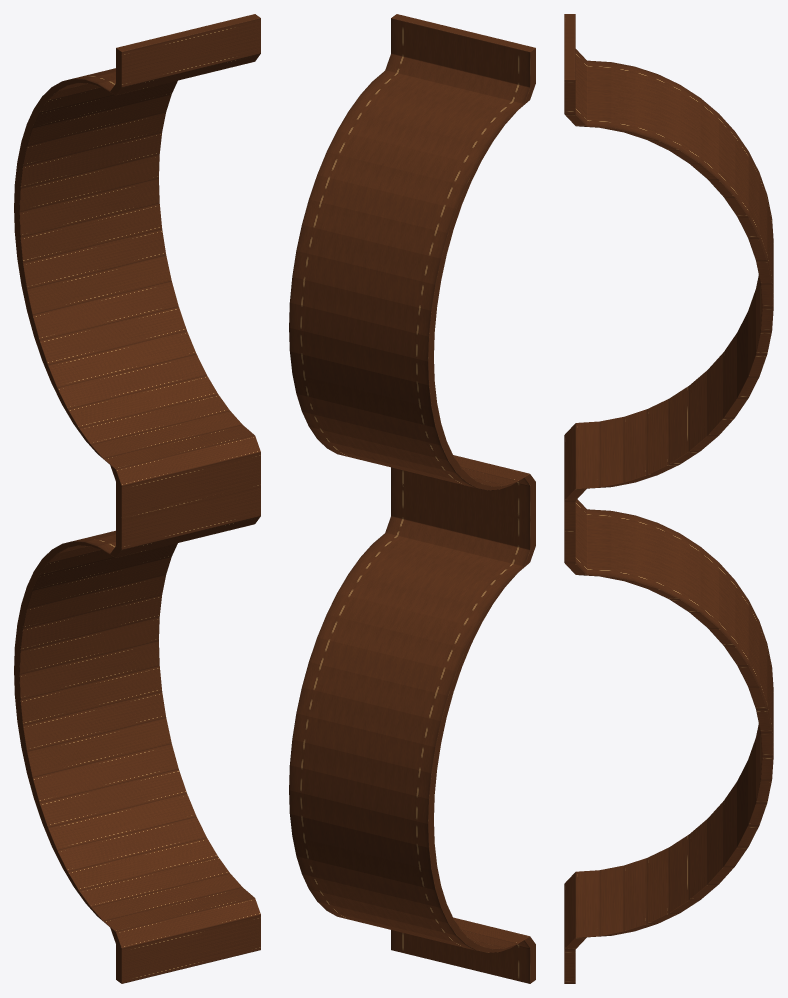
The model's file is WingWalker_StandingMount.glb.
3 views of the same model, side by side, from view 1: azimuth 30°, elevation 25°; view 2: azimuth 150°, elevation 25°; view 3: azimuth 270°, elevation 25° (orthographic). The views are drawn at different scales.
Visible parts, largest first — view 1: Unscience_WingWalker_FootStraps; view 2: Unscience_WingWalker_FootStraps; view 3: Unscience_WingWalker_FootStraps.
Boxes of the visible parts, <box> form: Unscience_WingWalker_FootStraps: <box>14,14,260,983</box>; Unscience_WingWalker_FootStraps: <box>289,14,535,983</box>; Unscience_WingWalker_FootStraps: <box>564,14,773,983</box>.
Size of the model in its own units: 0.082 by 0.524 by 0.11.
Materials: 1 (1 with a texture image).
